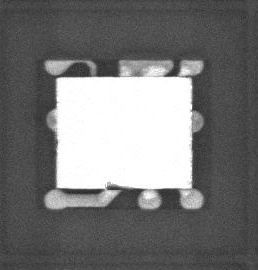DIE_BROKEN: (103, 180, 134, 191)
